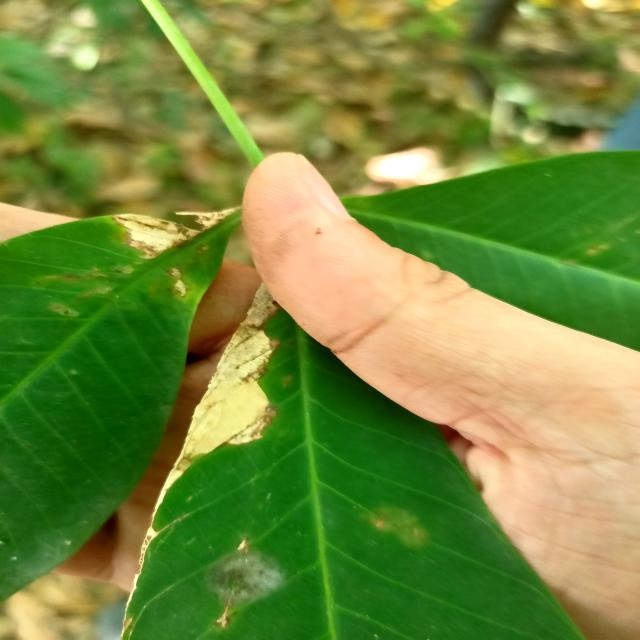Leaf-Blight: (156, 277, 282, 508), (112, 206, 242, 260)
